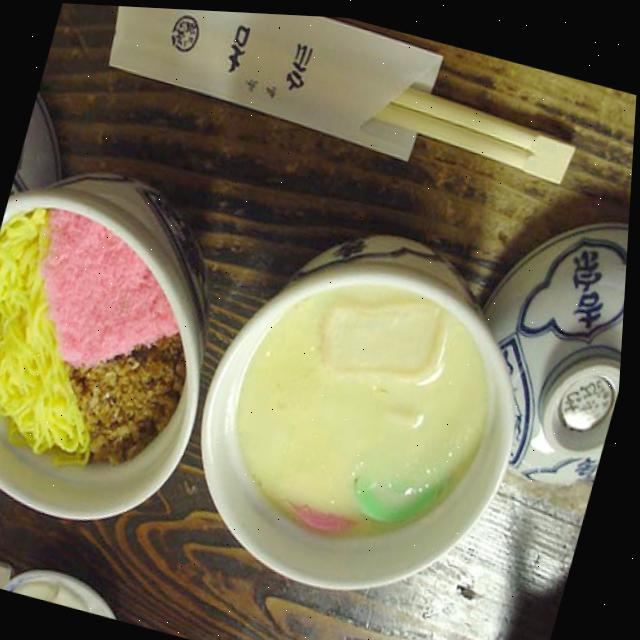鸡蛋料理: (140, 168, 564, 640)
